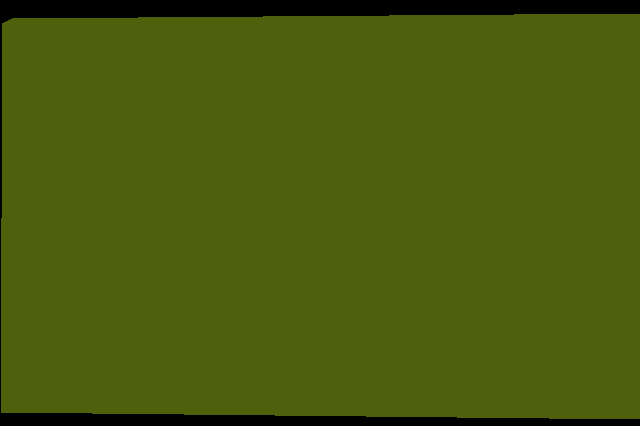Train: (1, 13, 640, 419)
